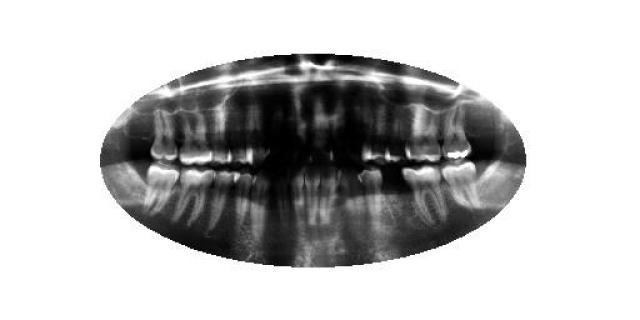Fillings: (440, 104, 471, 158)
